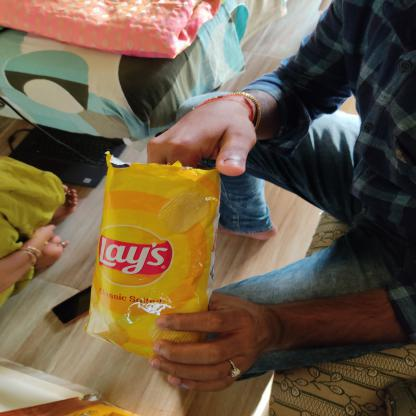classicsalted: (84, 159, 222, 361)
